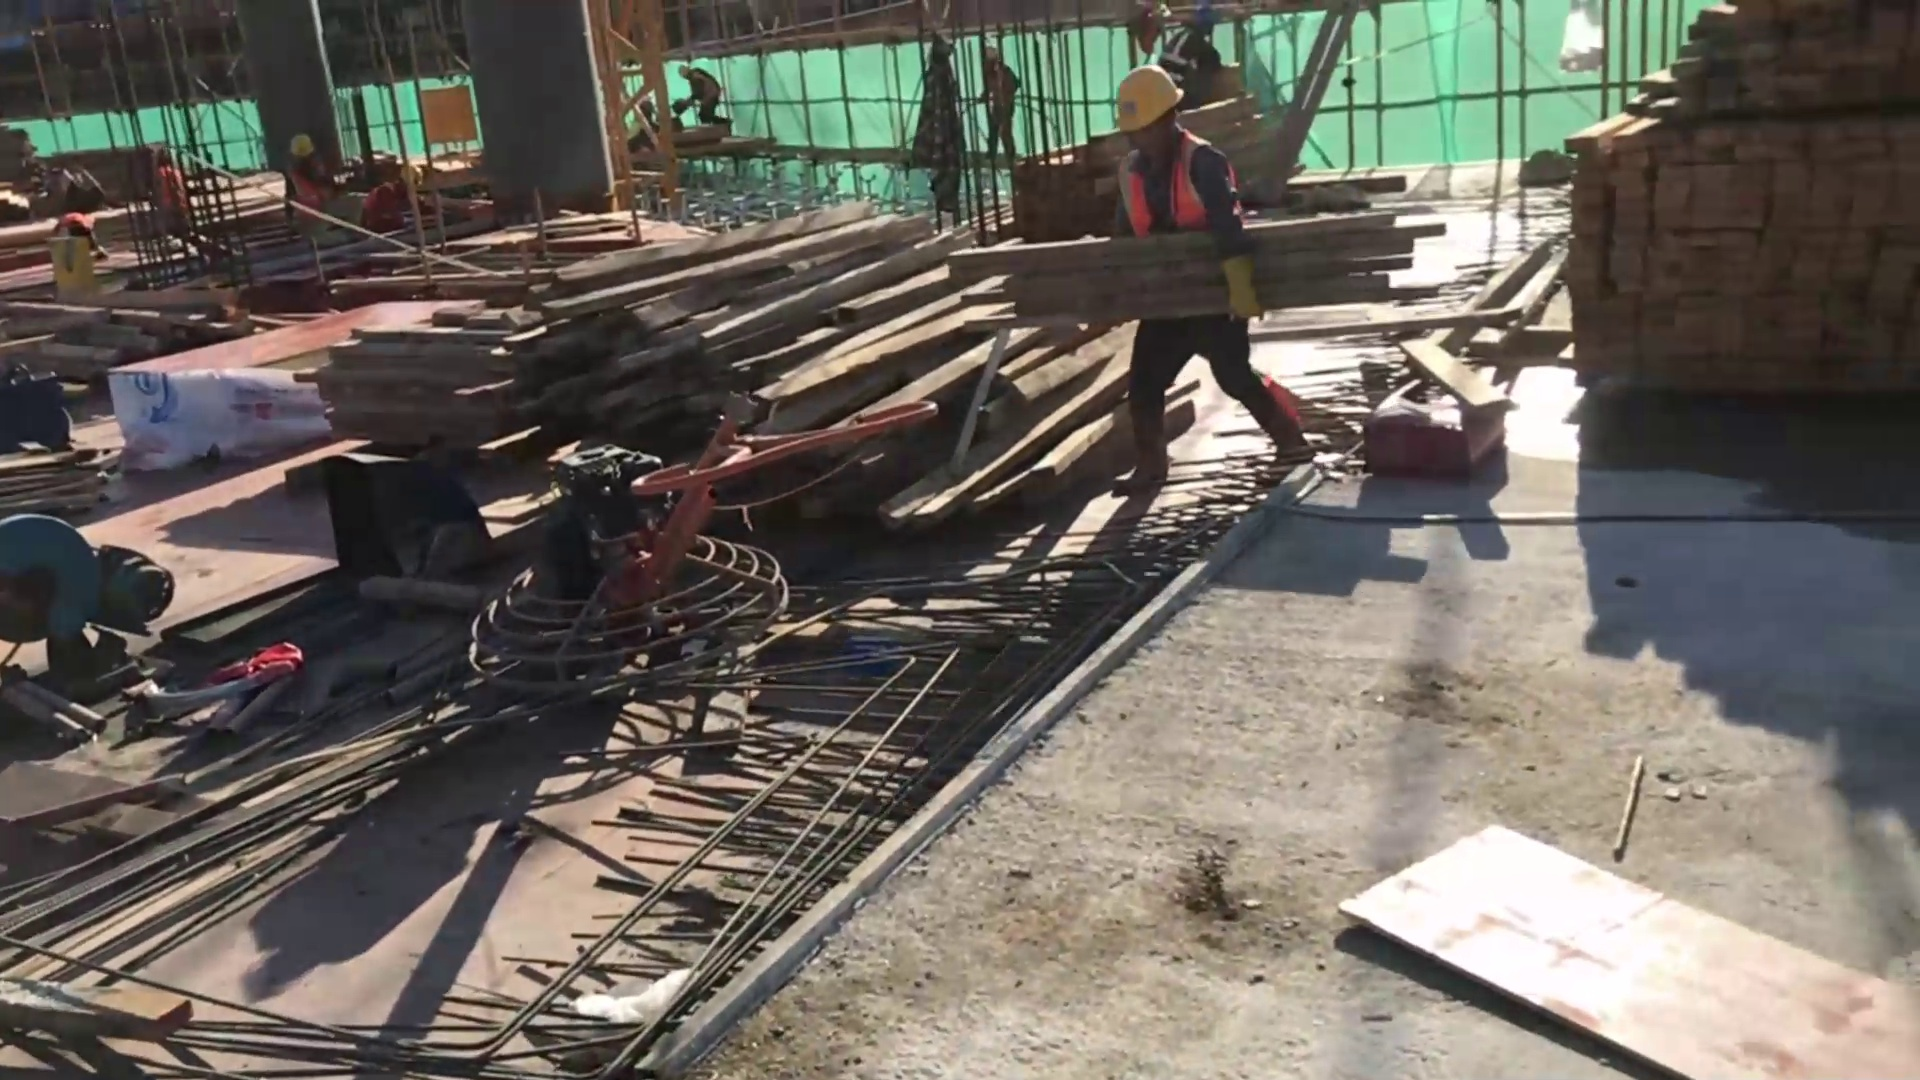board: (317, 321, 500, 443)
helmet: (1113, 65, 1181, 132)
person: (1062, 66, 1300, 527), (973, 42, 1027, 153)
rebar: (539, 185, 1049, 543)
vest: (1111, 145, 1240, 241)
wood: (1549, 1, 1920, 406)
